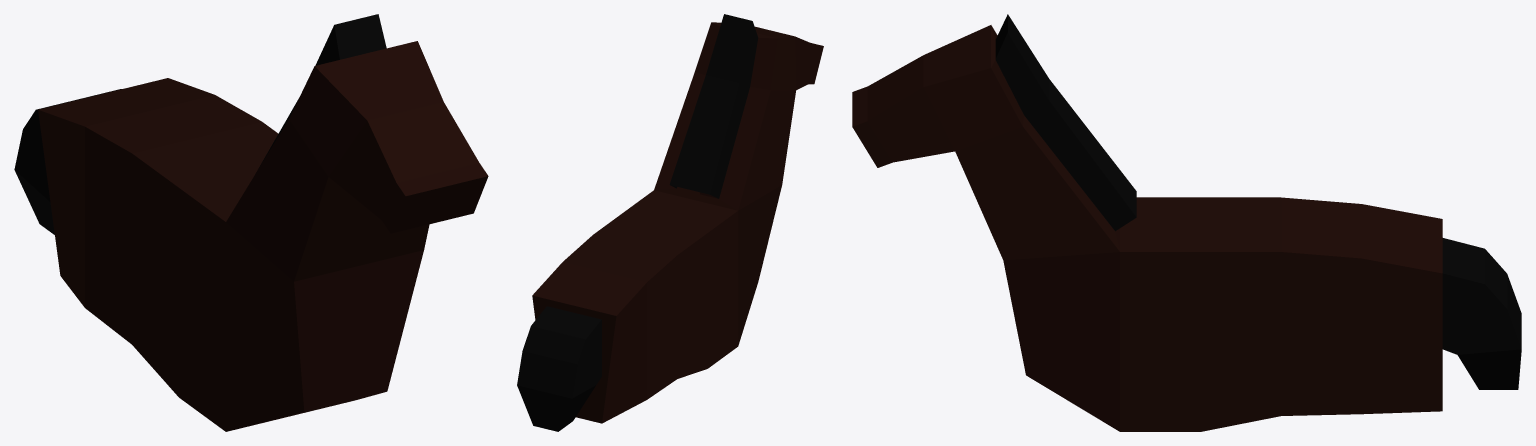
Rendered from horse.obj.
3 views of the same model, side by side, from view 1: azimuth 30°, elevation 25°; view 2: azimuth 150°, elevation 25°; view 3: azimuth 270°, elevation 25° (orthographic). The views are drawn at different scales.
Visible parts, largest first — view 1: horse; view 2: horse; view 3: horse.
Boxes of the visible parts, <box> form: horse: <box>14,14,488,431</box>; horse: <box>517,14,823,431</box>; horse: <box>852,14,1521,431</box>.
Bounding box in the file's own units: 0.1325 × 0.4327 × 0.6884.
